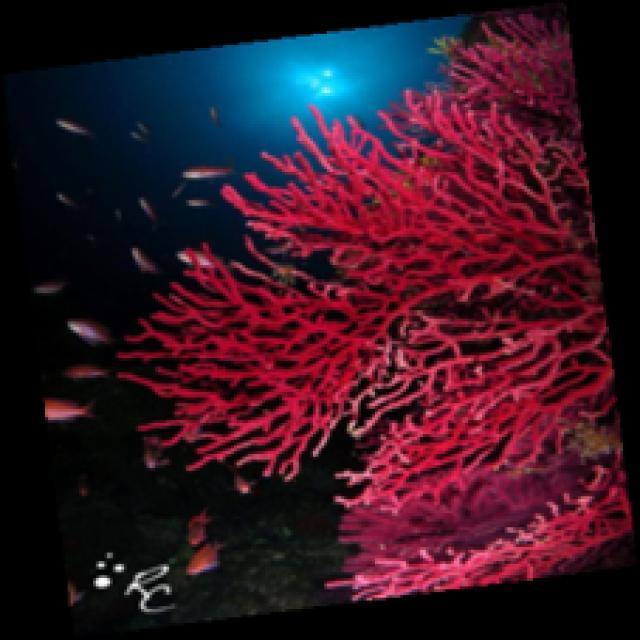Healthy: (115, 14, 640, 602)
